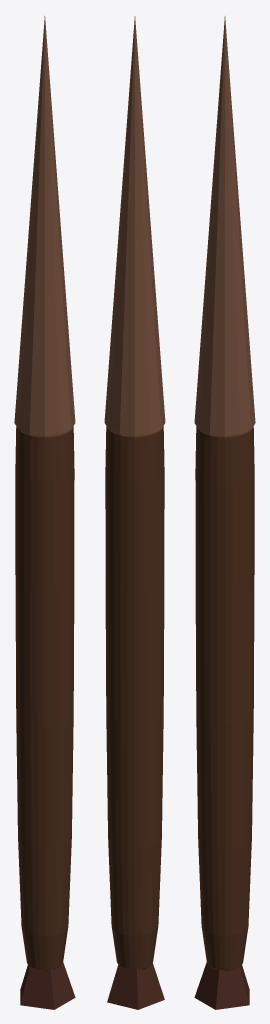
Rendered from Wand 28.glb.
The picture shows the model from 3 angles, left to right: view 1: azimuth 90°, elevation 25°; view 2: azimuth 150°, elevation 25°; view 3: azimuth 270°, elevation 25°; orthographic projection.
Parts seen in each view (by area): view 1: GeneratedWand; view 2: GeneratedWand; view 3: GeneratedWand.
Part boxes in pixels (x1=…): GeneratedWand: x1=14, y1=16, x2=75, y2=1009; GeneratedWand: x1=104, y1=16, x2=165, y2=1009; GeneratedWand: x1=194, y1=16, x2=255, y2=1009.
Size of the model in its own units: 0.0282 by 0.5013 by 0.0282.
